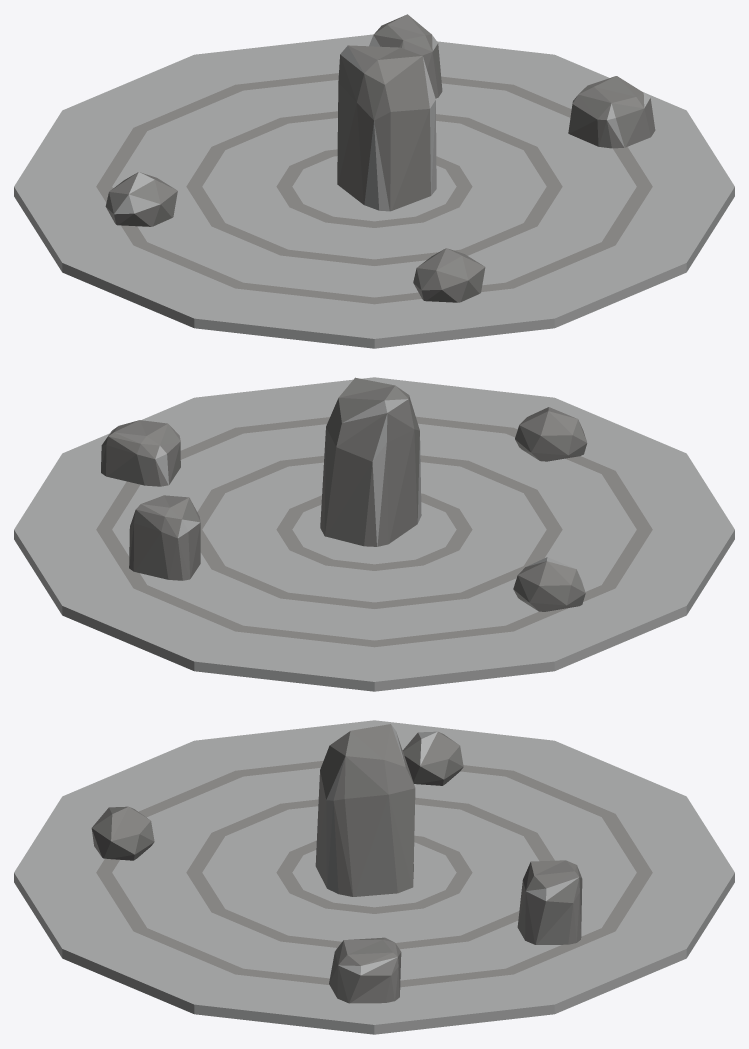
Rendered from stone_place.fbx.
3 views of the same model, one above another, from view 1: azimuth 30°, elevation 25°; view 2: azimuth 150°, elevation 25°; view 3: azimuth 270°, elevation 25° (orthographic).
Visible parts, largest first — view 1: stone_place; view 2: stone_place; view 3: stone_place.
Boxes of the visible parts, x1,y1,x2,y2 form: stone_place: (14,14,734,348); stone_place: (14,377,734,691); stone_place: (14,720,734,1034).
Bounding box in the file's own units: 701 × 160 × 701.
